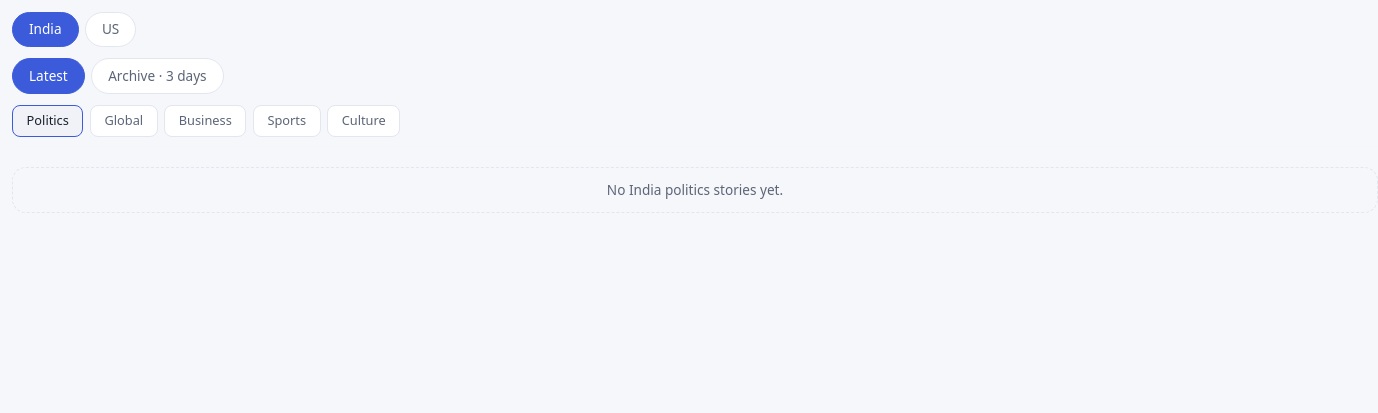
it: StoriesFeed — Latest/Archive window › switching back to Latest drops the older day again
Click the tab "Business".
click(205, 121)  # box [164,105,246,137]
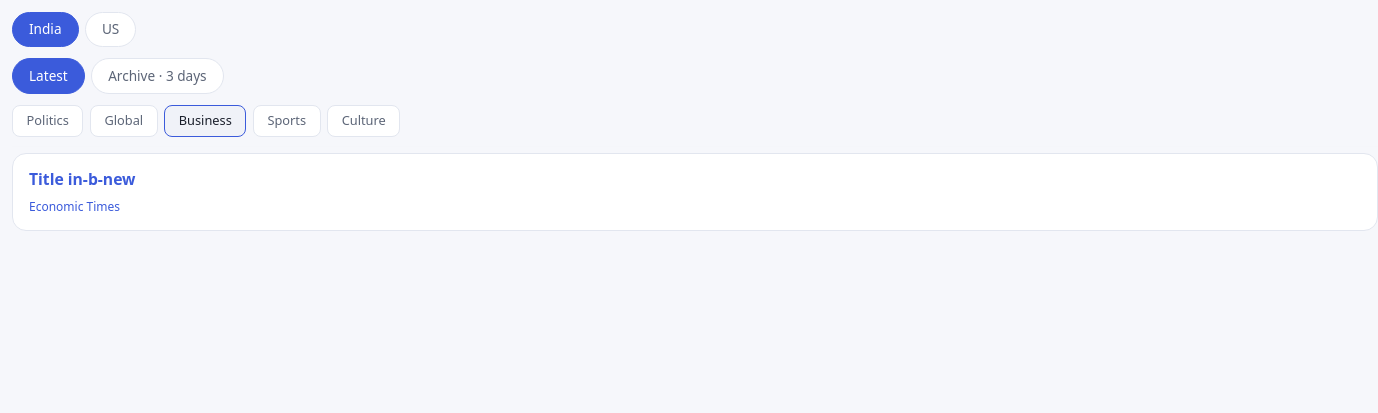
Click the tab "Archive · 3 days".
click(157, 76)  # box [91,58,224,94]
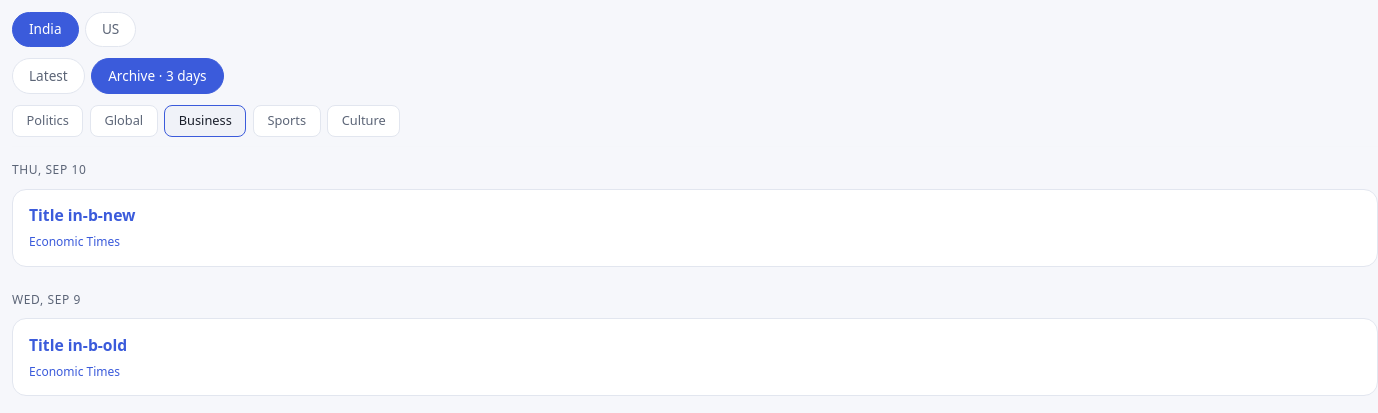
Click the tab "Latest".
click(48, 76)  # box [12,58,85,94]
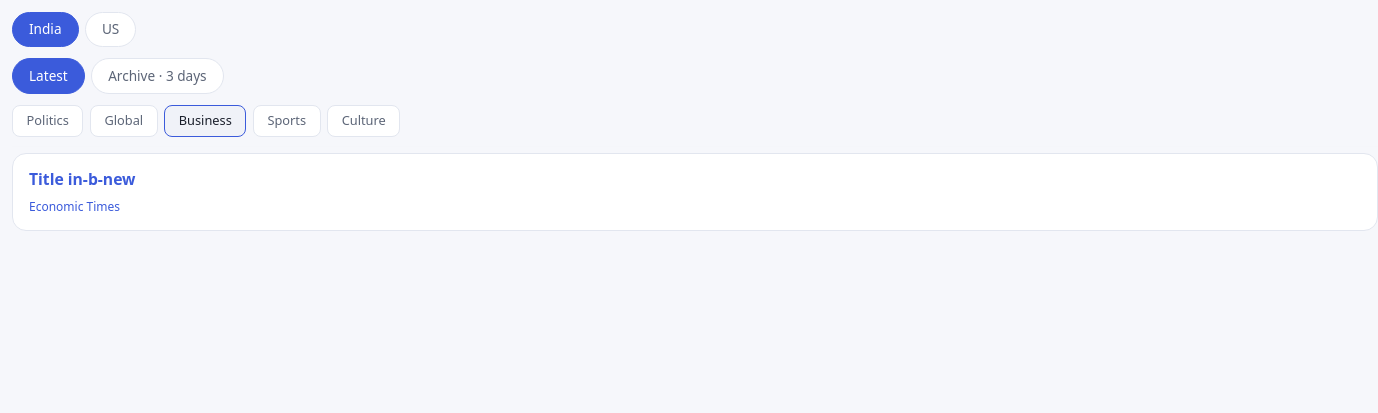
Expected: the link "Title in-b-old" is gone
